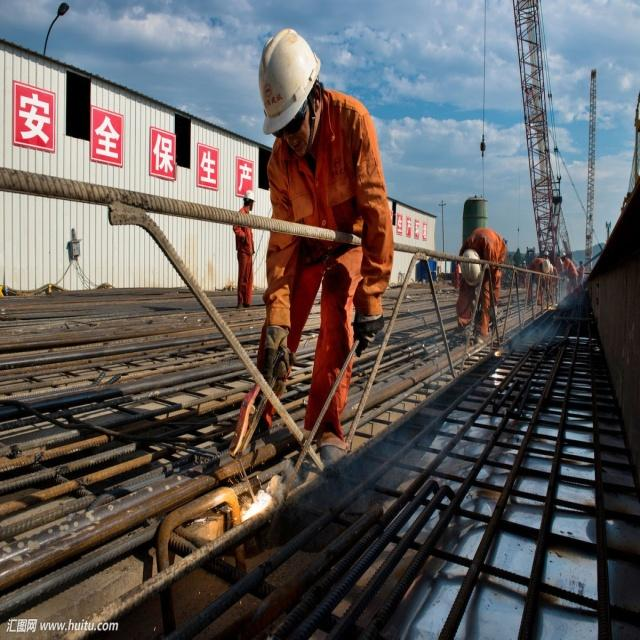helmet: (258, 37, 320, 208), (458, 329, 484, 383), (240, 252, 254, 283), (541, 345, 551, 367), (559, 334, 566, 350), (544, 334, 549, 346)
